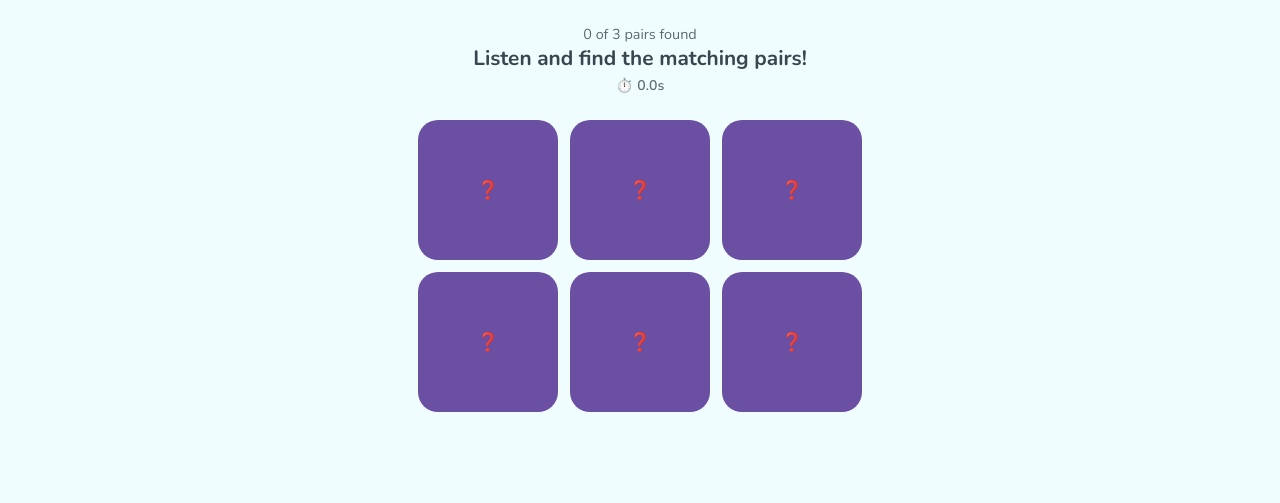
Test: SoundMemoryMatchGame › shows the fewest-flips record banner on the results screen
Click the 1st button "❓" at (488,190), box x1=418 y1=120 x2=558 y2=260
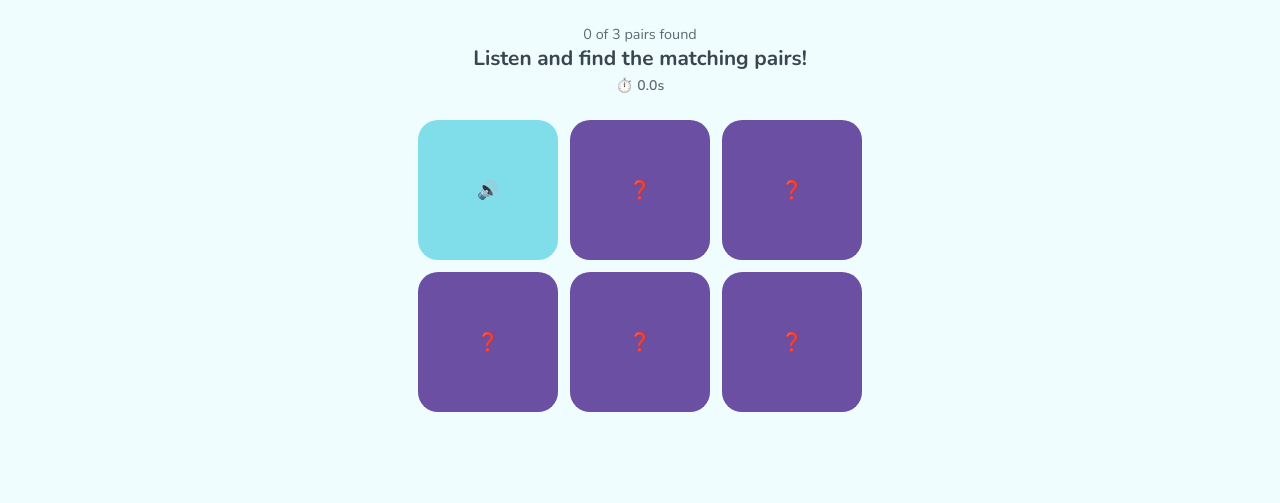
Click the 1st button "❓" at (640,190), box x1=570 y1=120 x2=710 y2=260
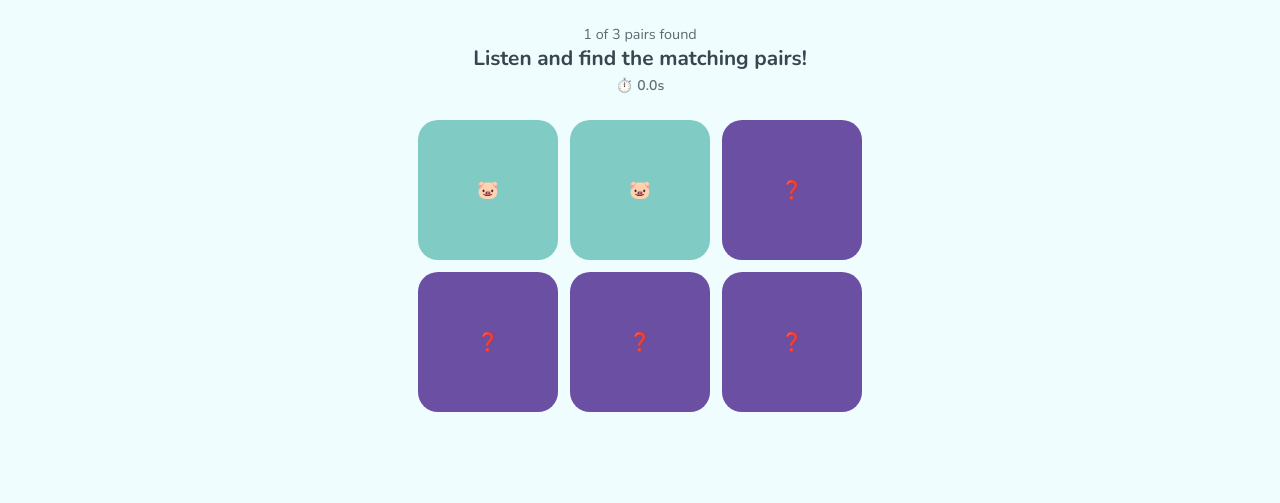
Click the 1st button "❓" at (792,190), box x1=722 y1=120 x2=862 y2=260
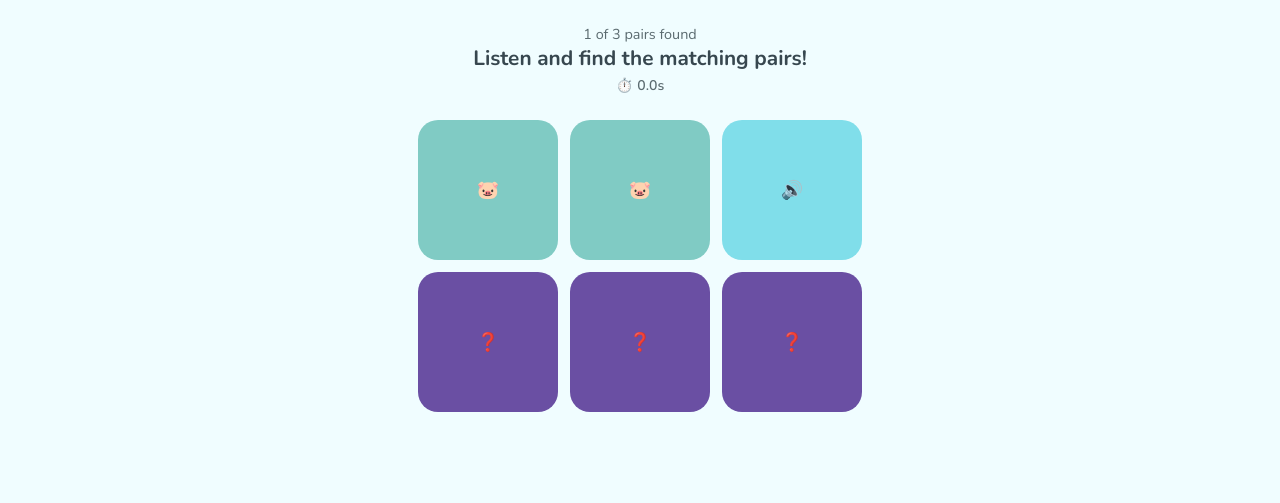
Click the 1st button "❓" at (488,342), box x1=418 y1=272 x2=558 y2=412
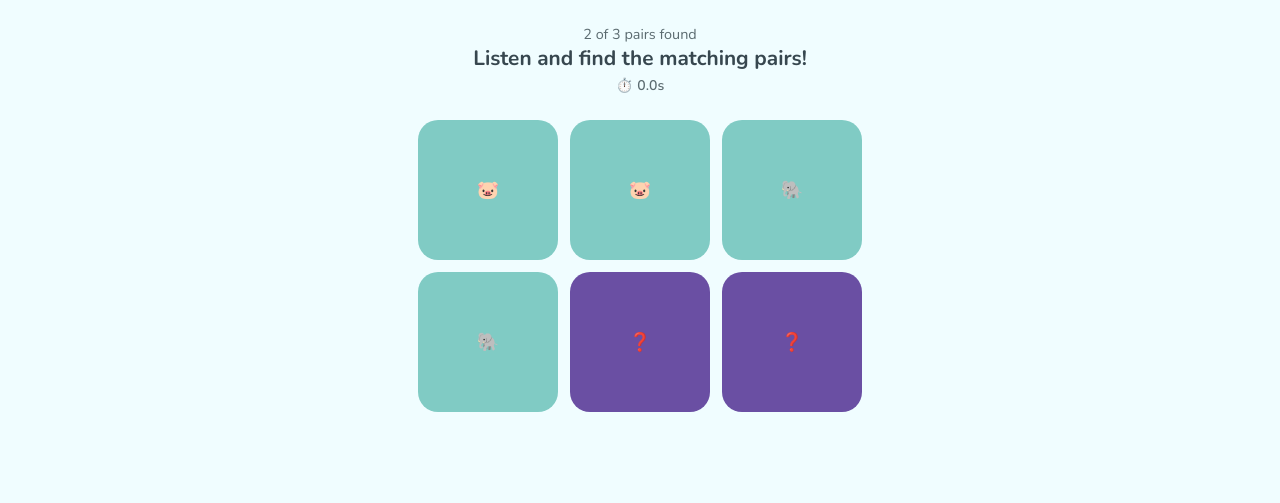
Click the 1st button "❓" at (640,342), box x1=570 y1=272 x2=710 y2=412
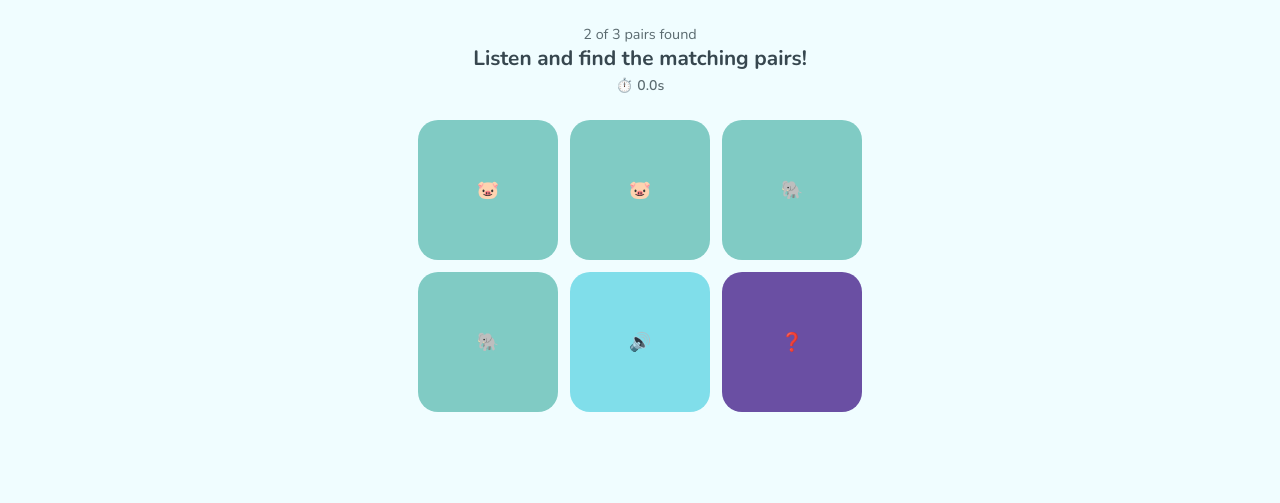
Click the button "❓" at (792,342), box x1=722 y1=272 x2=862 y2=412
Wait 2100 ms
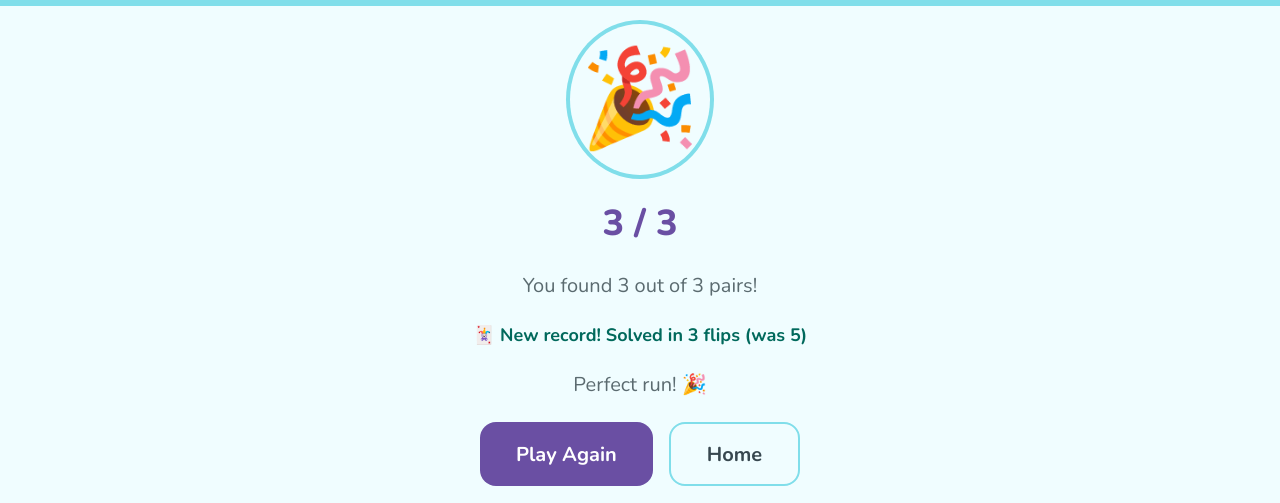
Expected: the text "🃏 New record! Solved in 3 flips (was 5)" is shown, x1=473 y1=323 x2=807 y2=347
